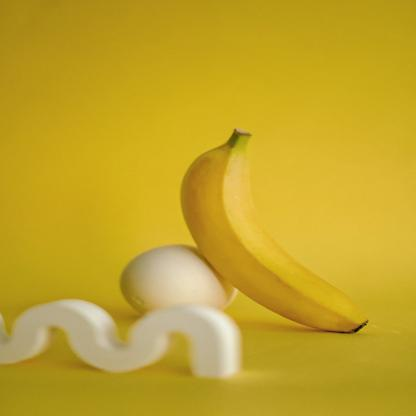banana: (159, 119, 399, 351)
